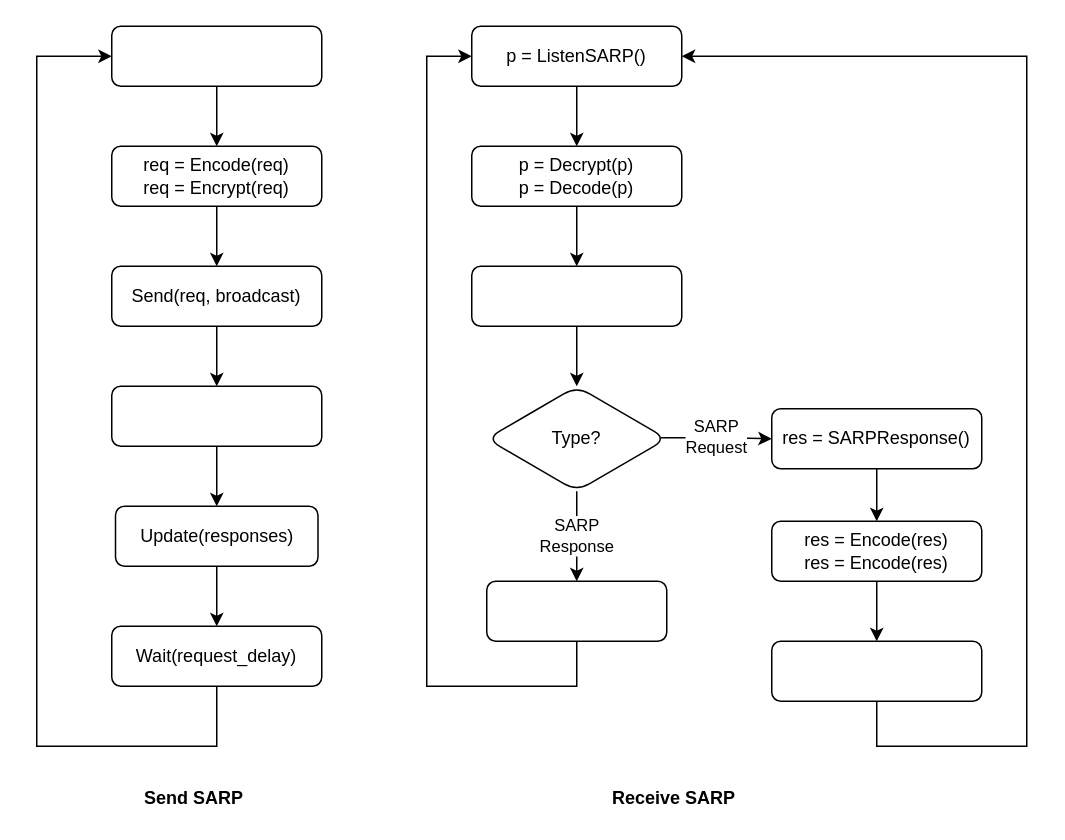
Some shapes in this 1065 by 840 pixel diagram are drawn without their labels. The shapes that lost their labels are listed below. From the top down, each one's centre as x and y in pixels, then its label:
(x=216, y=55): req = SARPRequest()
(x=576, y=295): CalculateLatency(p)
(x=216, y=415): Wait(hold_delay)
(x=576, y=610): responses.Add(p)
(x=876, y=670): Send(res, req.MAC)
